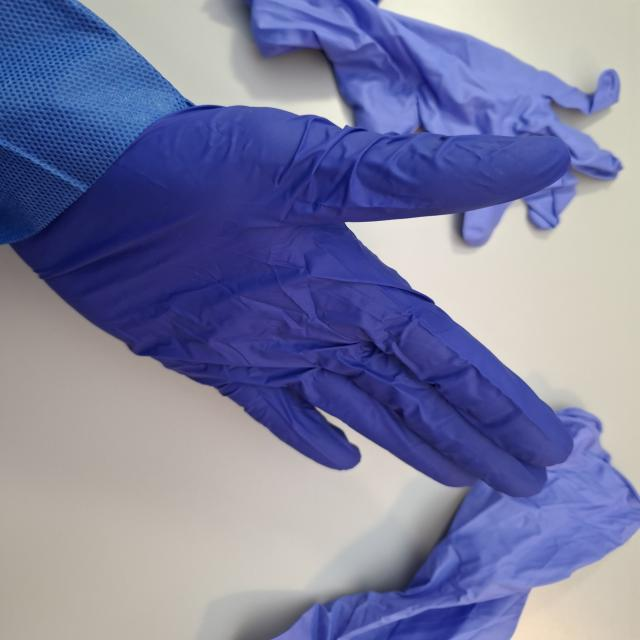glove_on: (12, 102, 579, 501)
